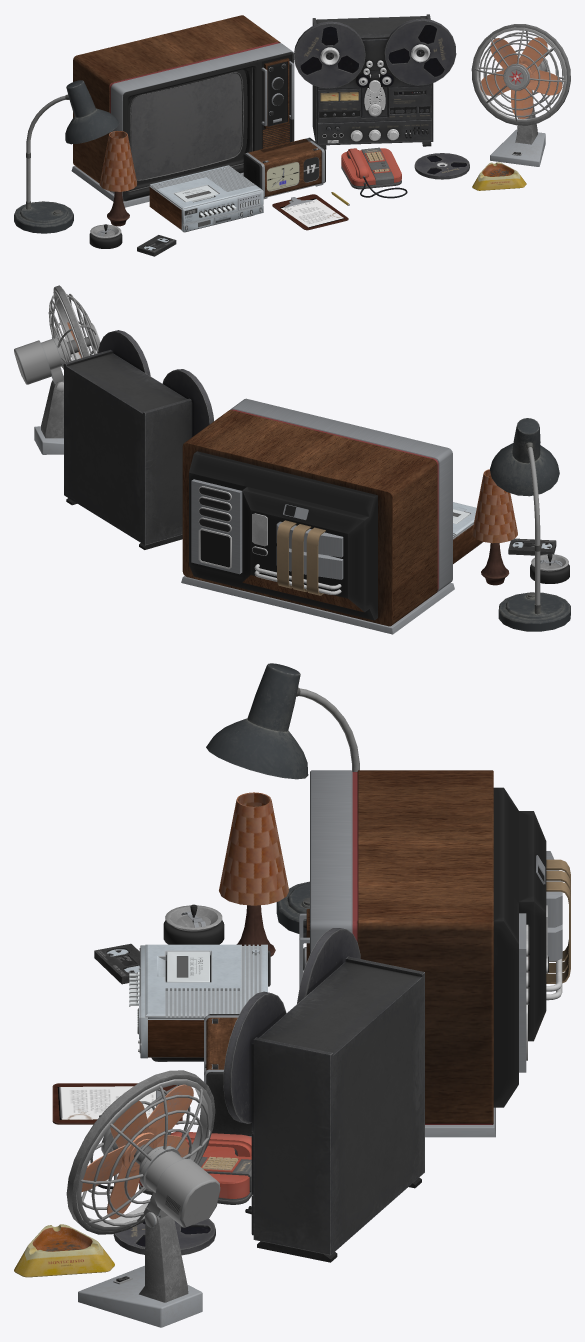
3 renders of one model, top to bottom at view 1: azimuth 30°, elevation 25°; view 2: azimuth 150°, elevation 25°; view 3: azimuth 270°, elevation 25°, orthographic. The views are drawn at different scales.
Visible parts, largest first — view 1: Television_2, Didctaphone_11, Fan_13, VHS_Player_0, Lamp_02_9, Clock_5, Phone_10, Lamp_01_8, Note_6, Audio_Tape_12, Ashtray_02_3, Ashtray_01_4 (+1 smaller); view 2: Television_2, Didctaphone_11, Lamp_02_9, Fan_13, Lamp_01_8, VHS_Player_0, Ashtray_01_4, VHS_Tape_1; view 3: Television_2, Didctaphone_11, Fan_13, VHS_Player_0, Lamp_02_9, Lamp_01_8, Ashtray_02_3, Phone_10, Note_6, Clock_5, Ashtray_01_4, Audio_Tape_12 (+1 smaller).
Boxes of the visible parts, x1,y1,x2,y2 form: Television_2: (71, 15, 294, 207); Didctaphone_11: (294, 14, 456, 149); Fan_13: (471, 24, 570, 166); VHS_Player_0: (149, 165, 263, 232); Lamp_02_9: (14, 80, 119, 233); Clock_5: (243, 137, 325, 199); Phone_10: (341, 147, 407, 198); Lamp_01_8: (99, 131, 137, 226); Note_6: (272, 194, 348, 230); Audio_Tape_12: (414, 153, 469, 179); Ashtray_02_3: (472, 162, 526, 190); Ashtray_01_4: (89, 224, 122, 248); Television_2: (181, 398, 454, 634); Didctaphone_11: (64, 330, 213, 549); Lamp_02_9: (490, 418, 570, 631); Fan_13: (14, 285, 100, 454); Lamp_01_8: (472, 469, 517, 585); VHS_Player_0: (453, 502, 482, 563); Ashtray_01_4: (530, 553, 569, 583); VHS_Tape_1: (508, 538, 556, 555); Television_2: (299, 770, 570, 1137); Didctaphone_11: (223, 928, 424, 1262); Fan_13: (66, 1070, 220, 1327); VHS_Player_0: (129, 944, 270, 1061); Lamp_02_9: (206, 663, 359, 933); Lamp_01_8: (219, 792, 289, 956); Ashtray_02_3: (14, 1224, 114, 1277); Phone_10: (97, 1131, 252, 1204); Note_6: (52, 1083, 182, 1124); Clock_5: (204, 1014, 252, 1136); Ashtray_01_4: (163, 904, 224, 944); Audio_Tape_12: (113, 1218, 215, 1255).
Bounding box in the file's own units: 2.72 × 0.7726 × 1.44.
5 materials, 5 textured.
